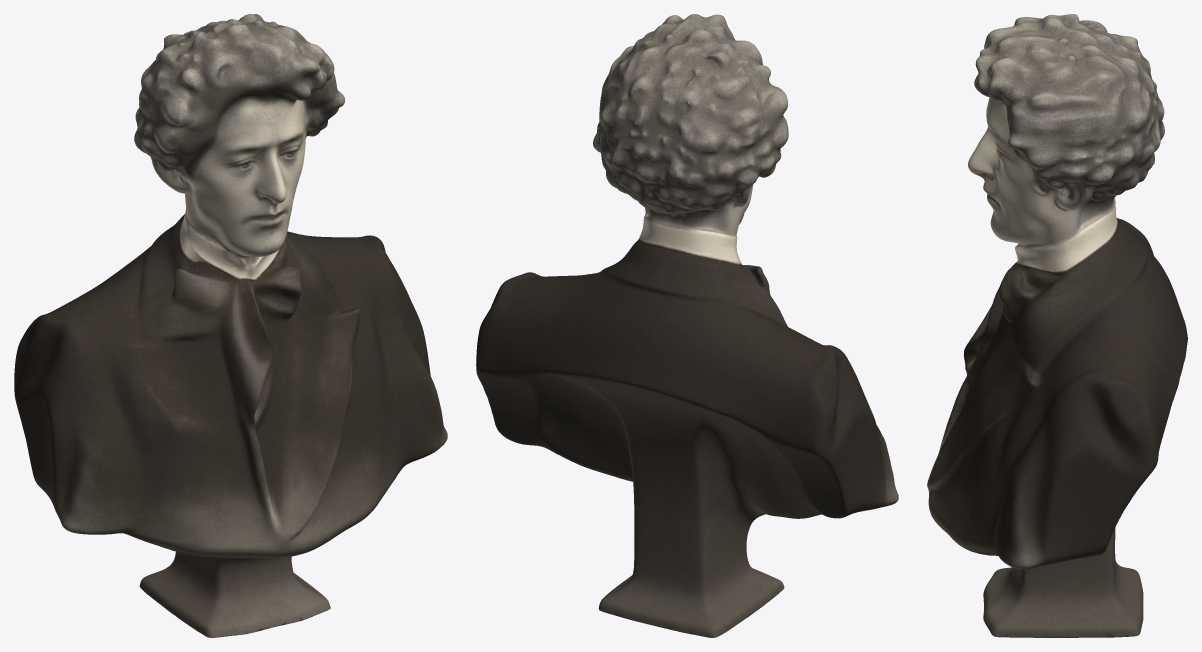
The model's file is Meshy_AI_Sepia_Portrait_of_a_Y_1023061251_texture.glb.
3 renders of one model, left to right at view 1: azimuth 30°, elevation 25°; view 2: azimuth 150°, elevation 25°; view 3: azimuth 270°, elevation 25°, orthographic. The views are drawn at different scales.
Size of the model in its own units: 1.32 by 1.9 by 0.7659.
1 material, 1 textured.
